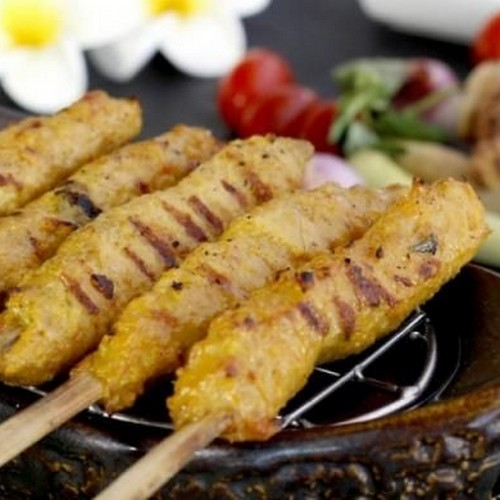sate languan: (4, 166, 470, 387)
